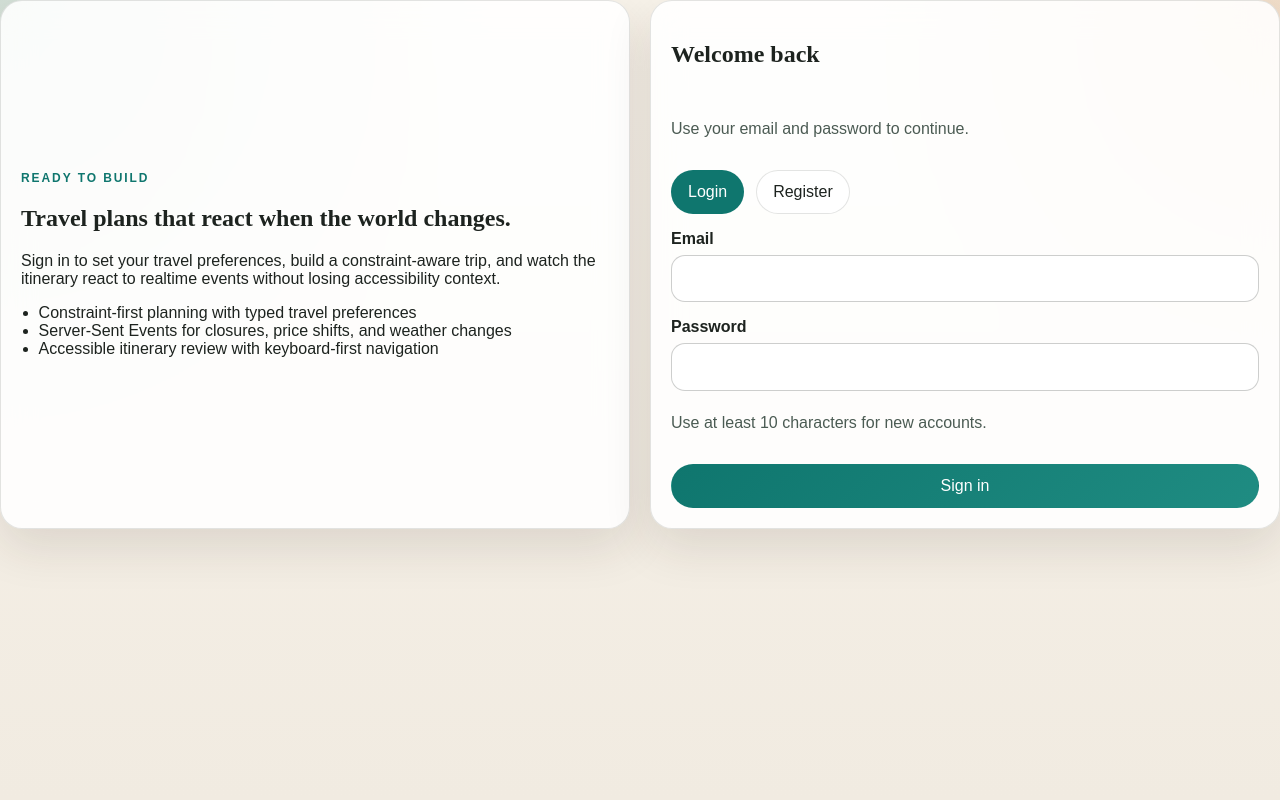
Scenario: AuthPage – client-side validation › shows 'Password is required.' when submitted with empty password
The image size is (1280, 800).
Type "test@example.com" into the field labelled "Email" at [965, 279], box [671,255,1259,302]
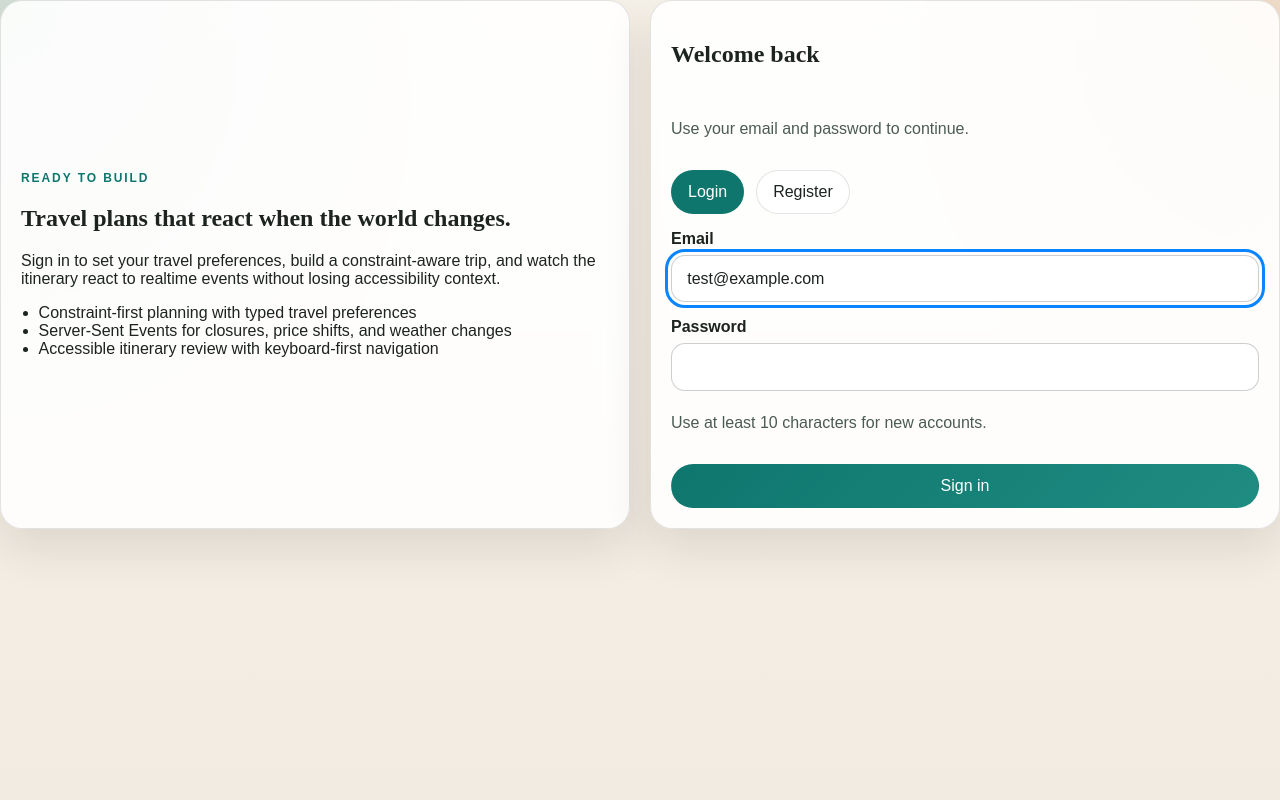
Click the button "Sign in" at [965, 486], box [671,464,1259,508]
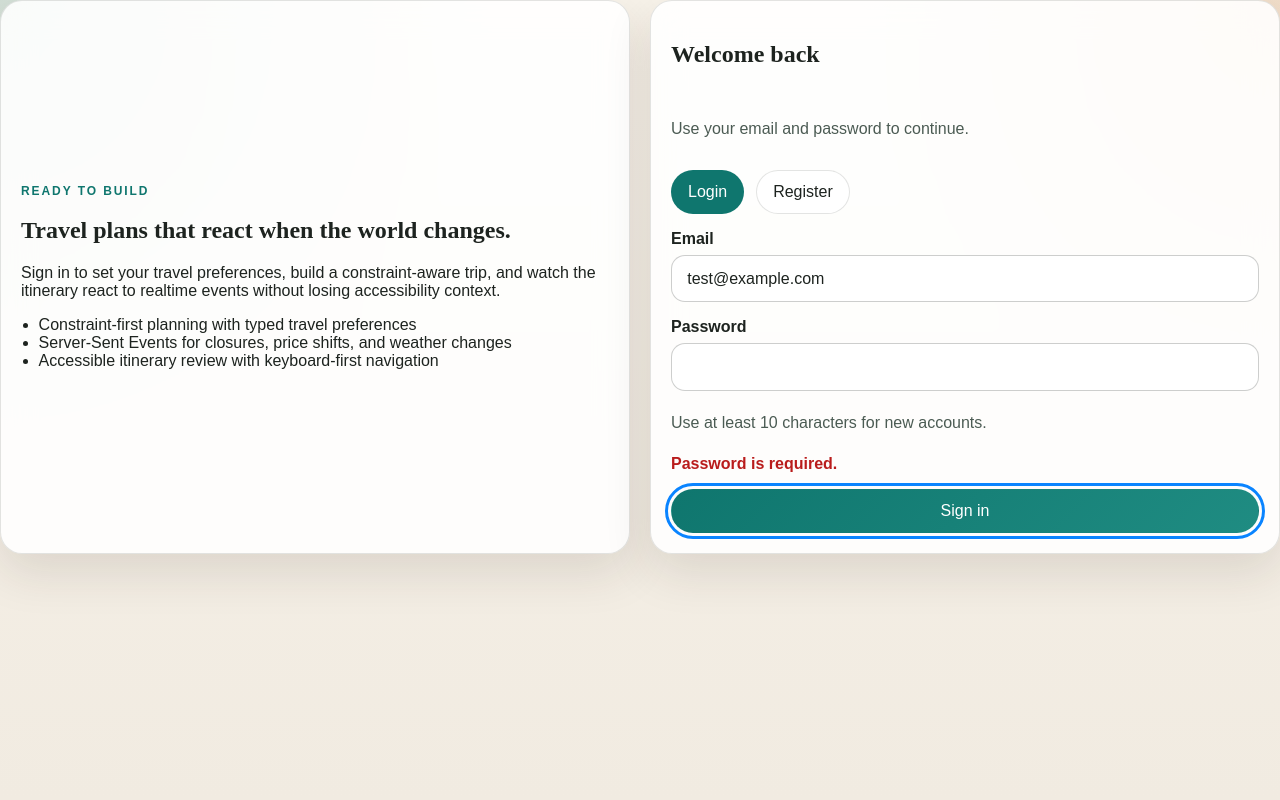
Check: the text "Password is required." is shown, box [671,455,837,472]
